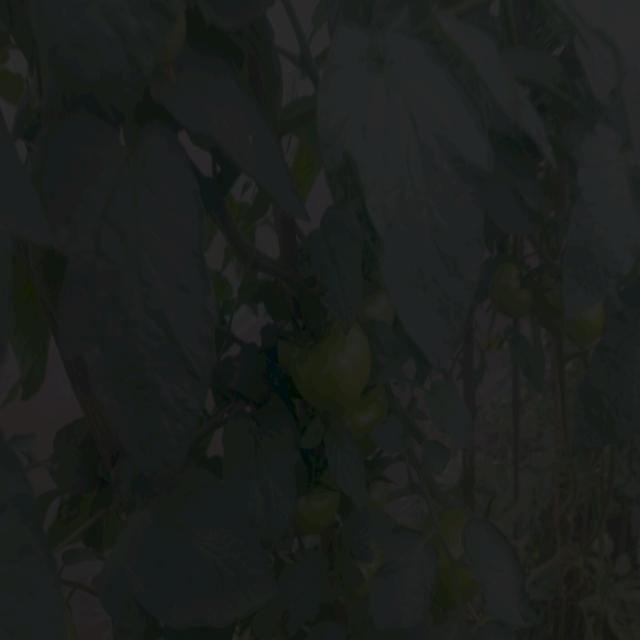tomato: (298, 323, 370, 403), (435, 508, 476, 610), (297, 485, 348, 533), (490, 262, 535, 315), (343, 388, 393, 427), (569, 303, 607, 353), (165, 16, 189, 66), (362, 284, 399, 316), (367, 467, 393, 509), (357, 556, 393, 581)
